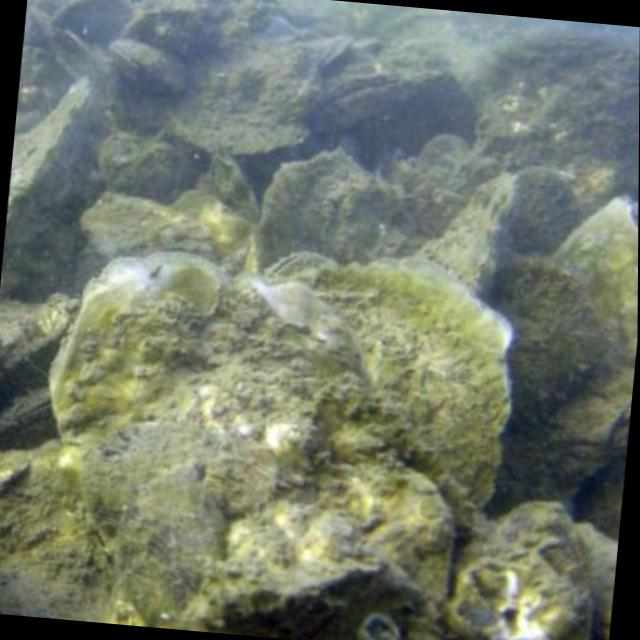Oyster-Closed: (45, 253, 455, 640), (318, 73, 444, 133)
Oyster-Indeterminate: (282, 255, 512, 531), (501, 200, 638, 515), (448, 500, 597, 640), (256, 155, 412, 269), (494, 262, 601, 412), (5, 79, 94, 233), (424, 182, 524, 295), (83, 194, 218, 261), (101, 129, 193, 202), (510, 166, 582, 252), (107, 38, 186, 96), (52, 0, 132, 40)
